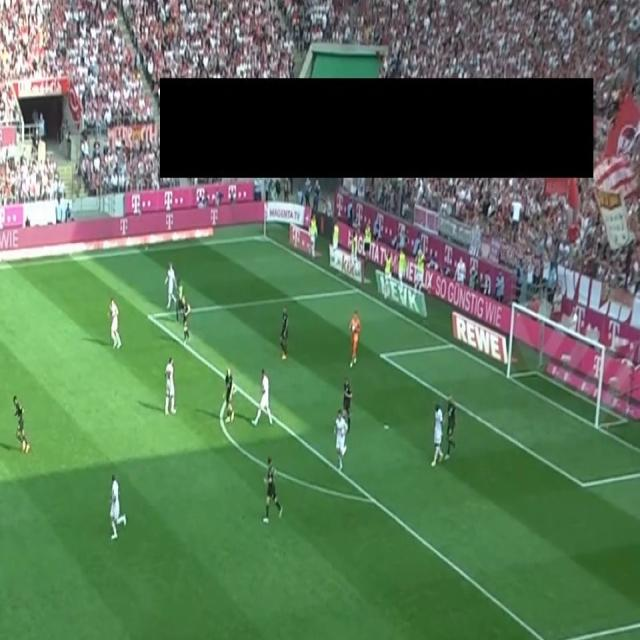ball: (351, 323, 356, 332)
